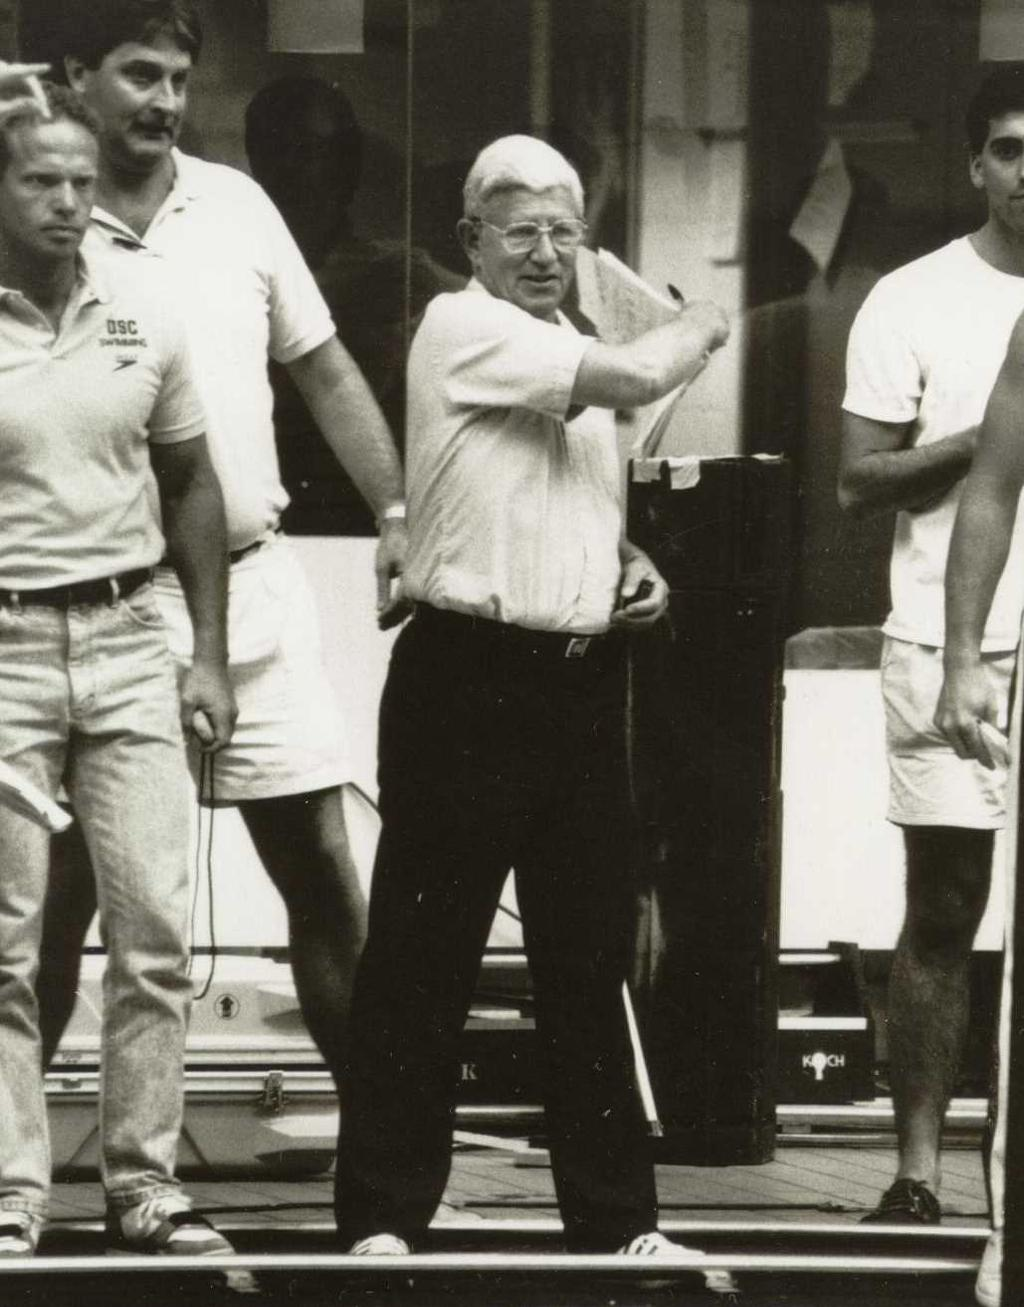face: (483, 174, 585, 304), (92, 26, 192, 154), (13, 120, 95, 258)
